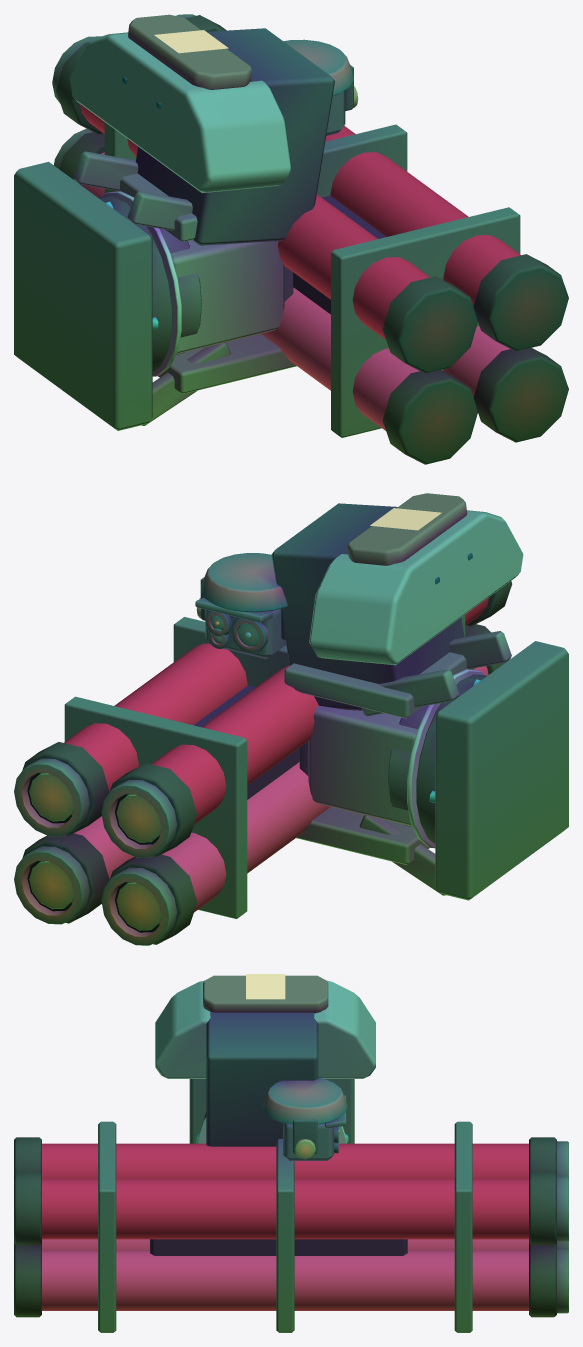
File: arm_kornet.glb
3 renders of one model, top to bottom at view 1: azimuth 30°, elevation 25°; view 2: azimuth 150°, elevation 25°; view 3: azimuth 270°, elevation 25°, orthographic. The views are drawn at different scales.
Visible parts, largest first — view 1: Body__gunmetal, Body__armor, Body__rubber, Body__armor_oxide, Body__dark, Body__armor_sub, Body__chrome, Body__decal, Body__armor_dark; view 2: Body__gunmetal, Body__armor, Body__armor_oxide, Body__dark, Body__armor_sub, Body__rubber, Body__brass, Body__chrome, Body__armor_dark, Body__decal, Body__bore, Body__glass; view 3: Body__armor_oxide, Body__armor, Body__gunmetal, Body__dark, Body__rubber, Body__armor_dark, Body__decal.
Part boxes in pixels (box(x1,y1,x2,y2)): Body__gunmetal: box(14, 14, 520, 437); Body__armor: box(69, 32, 509, 430); Body__rubber: box(56, 15, 568, 464); Body__armor_oxide: box(80, 14, 520, 339); Body__dark: box(99, 28, 385, 372); Body__armor_sub: box(73, 151, 296, 425); Body__chrome: box(100, 191, 181, 376); Body__decal: box(154, 30, 228, 53); Body__armor_dark: box(326, 90, 345, 136); Body__gunmetal: box(14, 553, 568, 945); Body__armor: box(74, 510, 523, 912); Body__armor_oxide: box(64, 493, 488, 824); Body__dark: box(194, 503, 486, 843); Body__armor_sub: box(284, 631, 511, 895); Body__rubber: box(22, 581, 512, 944); Body__brass: box(29, 598, 200, 930); Body__chrome: box(407, 669, 485, 848); Body__armor_dark: box(205, 609, 285, 659); Body__decal: box(370, 508, 441, 530); Body__bore: box(27, 773, 159, 932); Body__glass: box(211, 616, 258, 646); Body__armor_oxide: box(42, 975, 528, 1239); Body__armor: box(42, 980, 528, 1310); Body__gunmetal: box(98, 1078, 568, 1332); Body__dark: box(150, 1011, 407, 1255); Body__rubber: box(14, 1137, 556, 1317); Body__armor_dark: box(283, 1123, 333, 1160); Body__decal: box(246, 974, 285, 999).
Size of the model in its own units: 0.96 by 0.9269 by 1.68.
